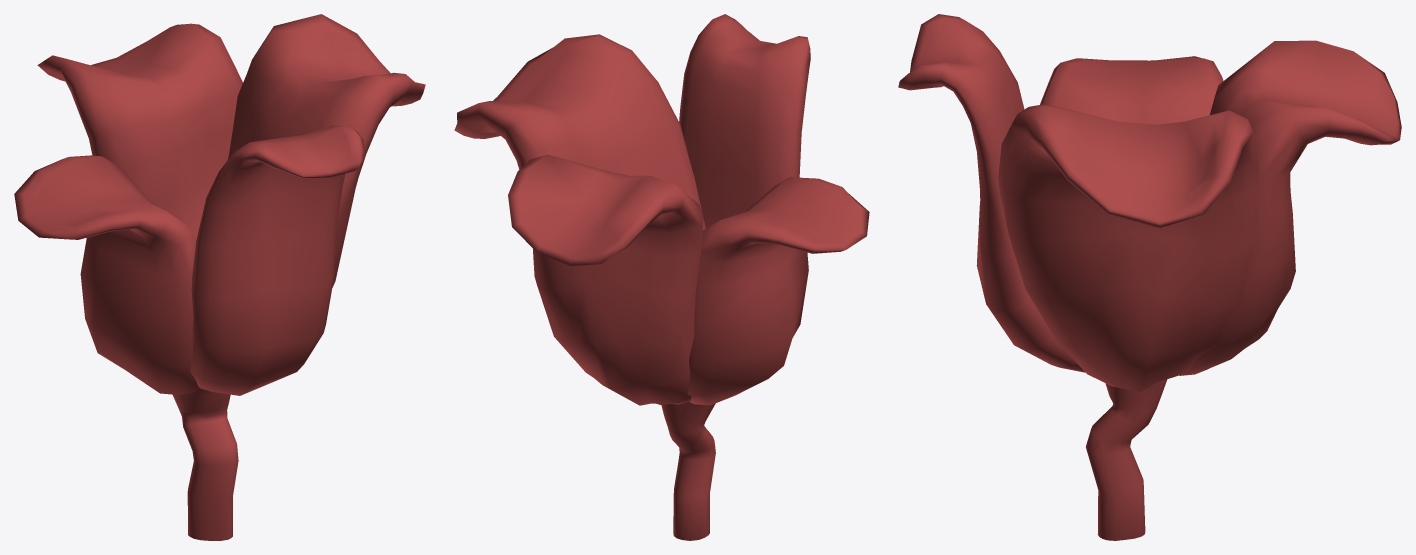
Rendered from FlowerBody_low.fbx.
The picture shows the model from 3 angles, left to right: view 1: azimuth 30°, elevation 25°; view 2: azimuth 150°, elevation 25°; view 3: azimuth 270°, elevation 25°; orthographic projection. The views are drawn at different scales.
Visible parts, largest first — view 1: FlowerPetals_low, FlowerBody_low; view 2: FlowerPetals_low, FlowerBody_low; view 3: FlowerPetals_low, FlowerBody_low.
Boxes of the visible parts, left/top/right/bottom form: FlowerPetals_low: left=14, top=14, right=425, bottom=395; FlowerBody_low: left=173, top=387, right=238, bottom=540; FlowerPetals_low: left=454, top=14, right=869, bottom=405; FlowerBody_low: left=661, top=402, right=715, bottom=540; FlowerPetals_low: left=898, top=14, right=1401, bottom=392; FlowerBody_low: left=1086, top=379, right=1167, bottom=540.
Size of the model in its own units: 0.3361 by 0.3801 by 0.3464.
